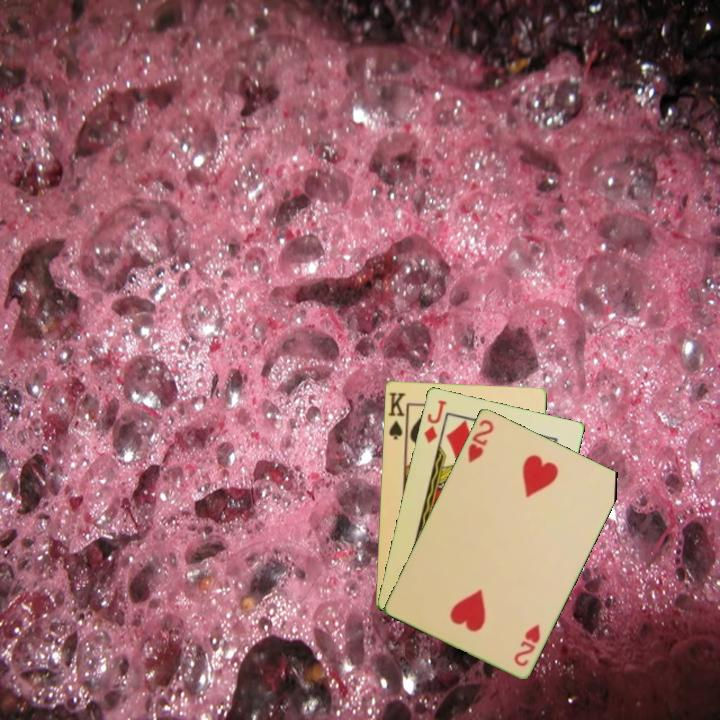2h: (510, 620, 543, 669), (464, 415, 496, 465)
Jd: (420, 396, 449, 446)
Ks: (385, 389, 407, 442)
